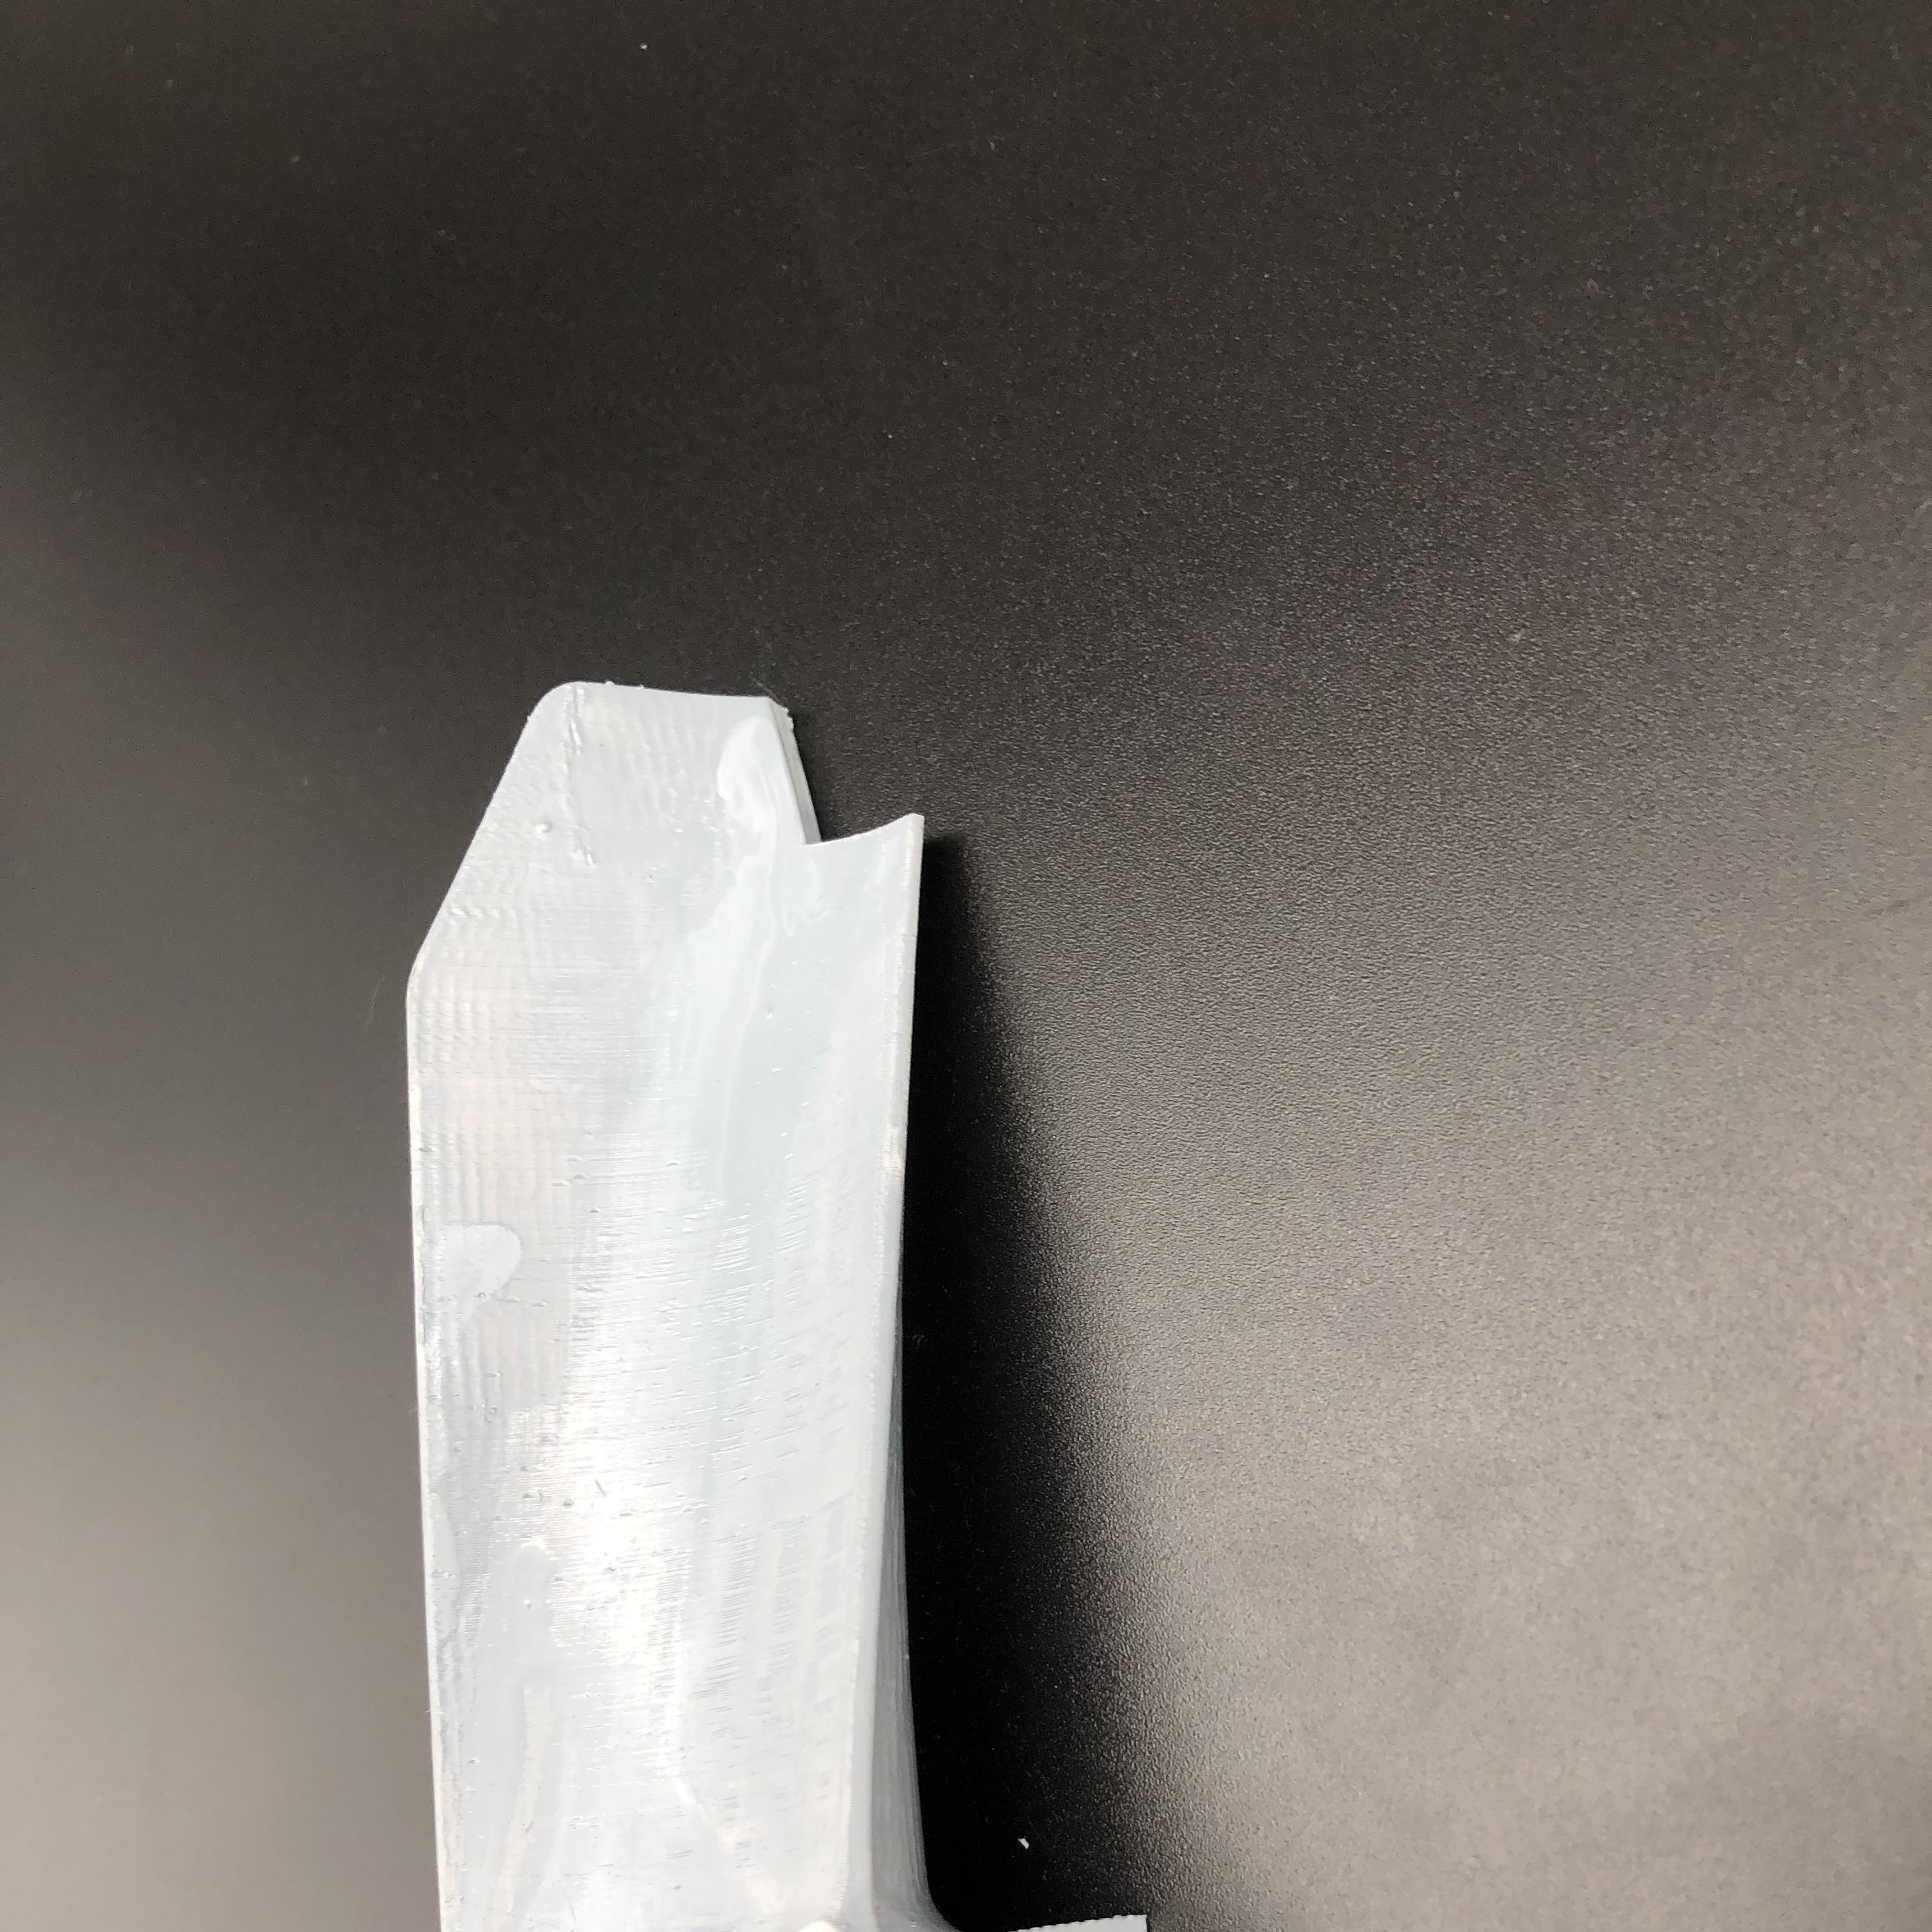fracture: (720, 688, 920, 847)
